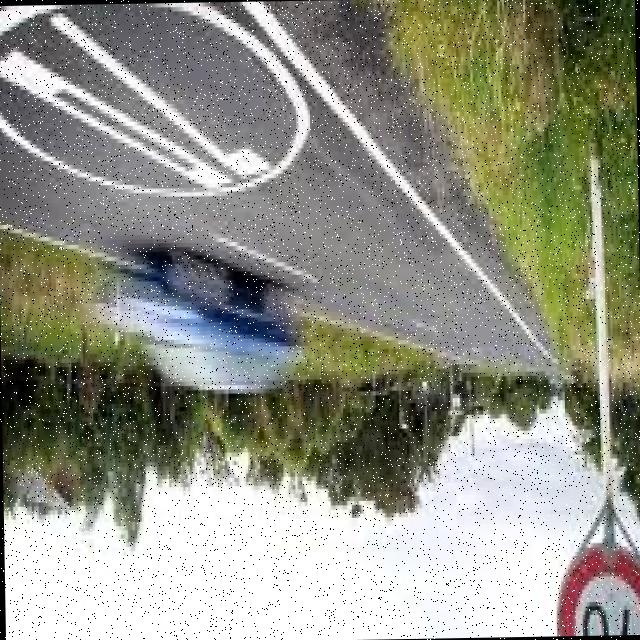speed_limit_70: (543, 542, 640, 636)
